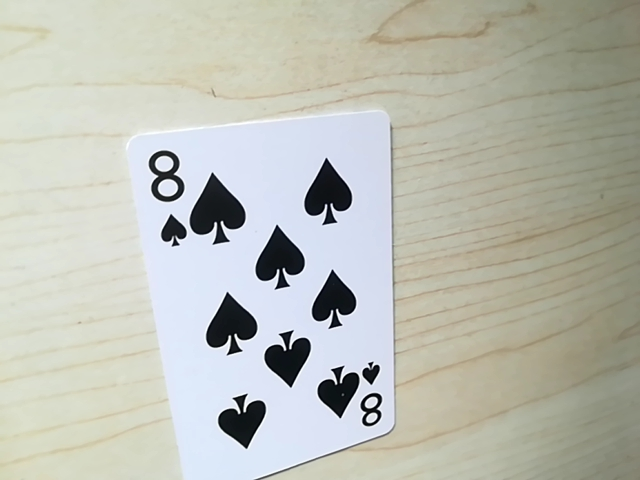ht 8: (140, 139, 194, 254), (356, 370, 389, 440)
